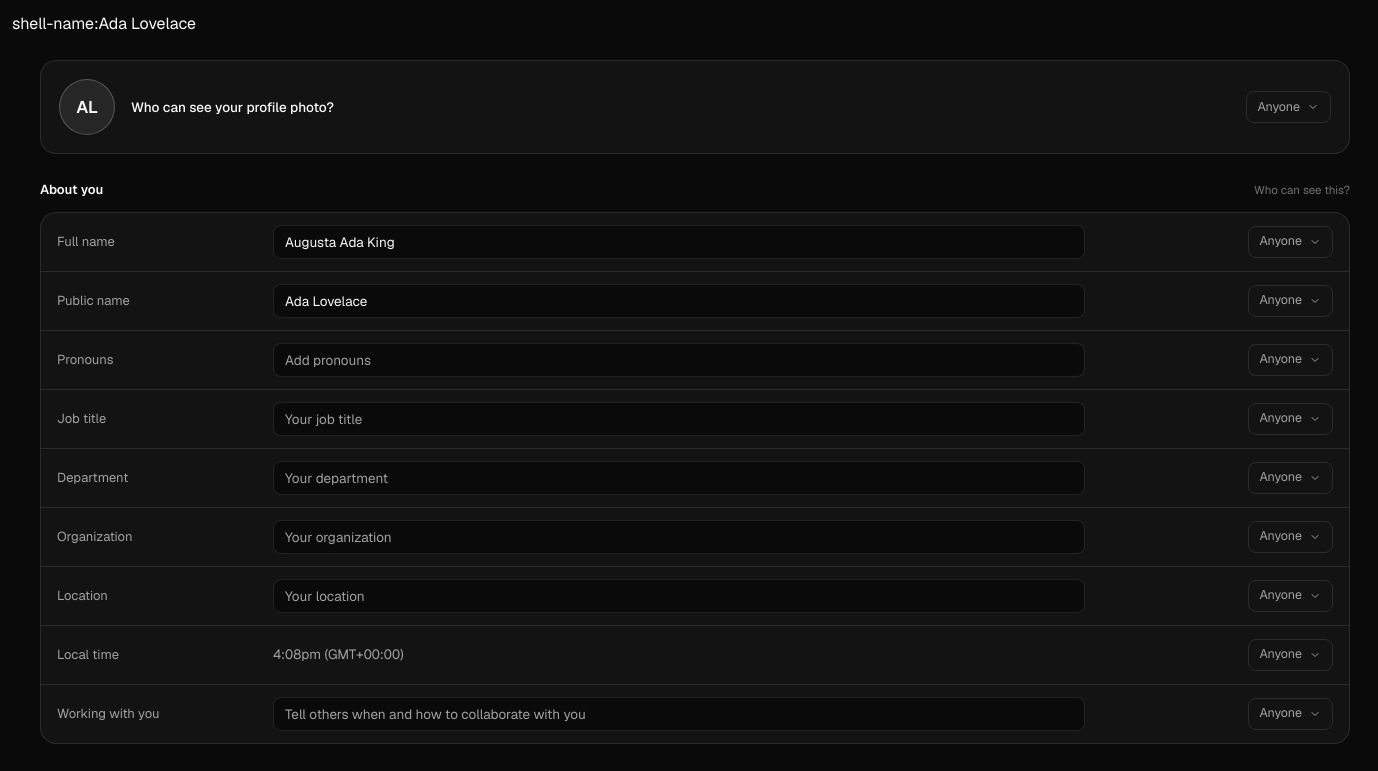
AccountProfile › does not restore an older name when a slower save resolves after a newer edit
The width and height of the screenshot is (1378, 771).
Replace the text in the field labelled "Public name" with "Ada King" at [679, 300], box [273,284,1085,318]
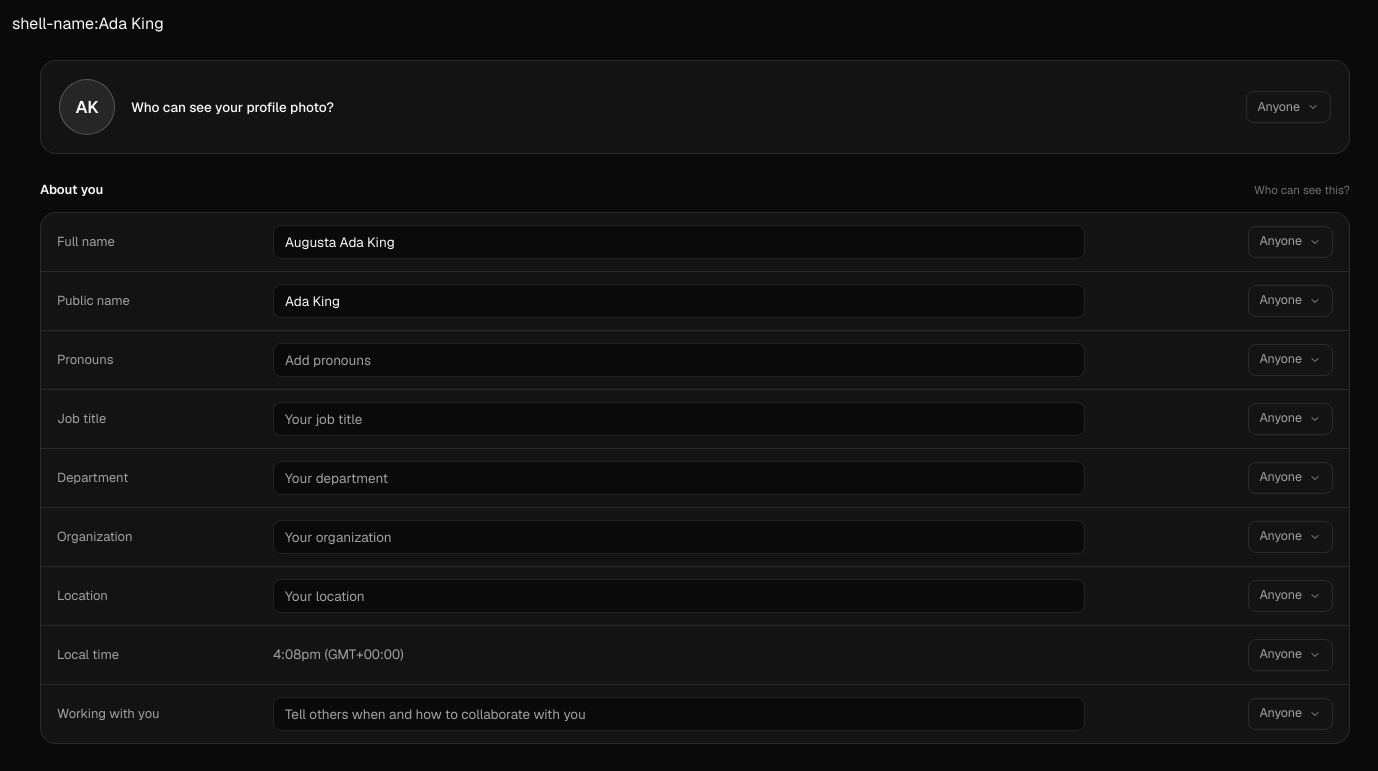
Replace the text in the field labelled "Public name" with "Grace Hopper" at [679, 300], box [273,284,1085,318]
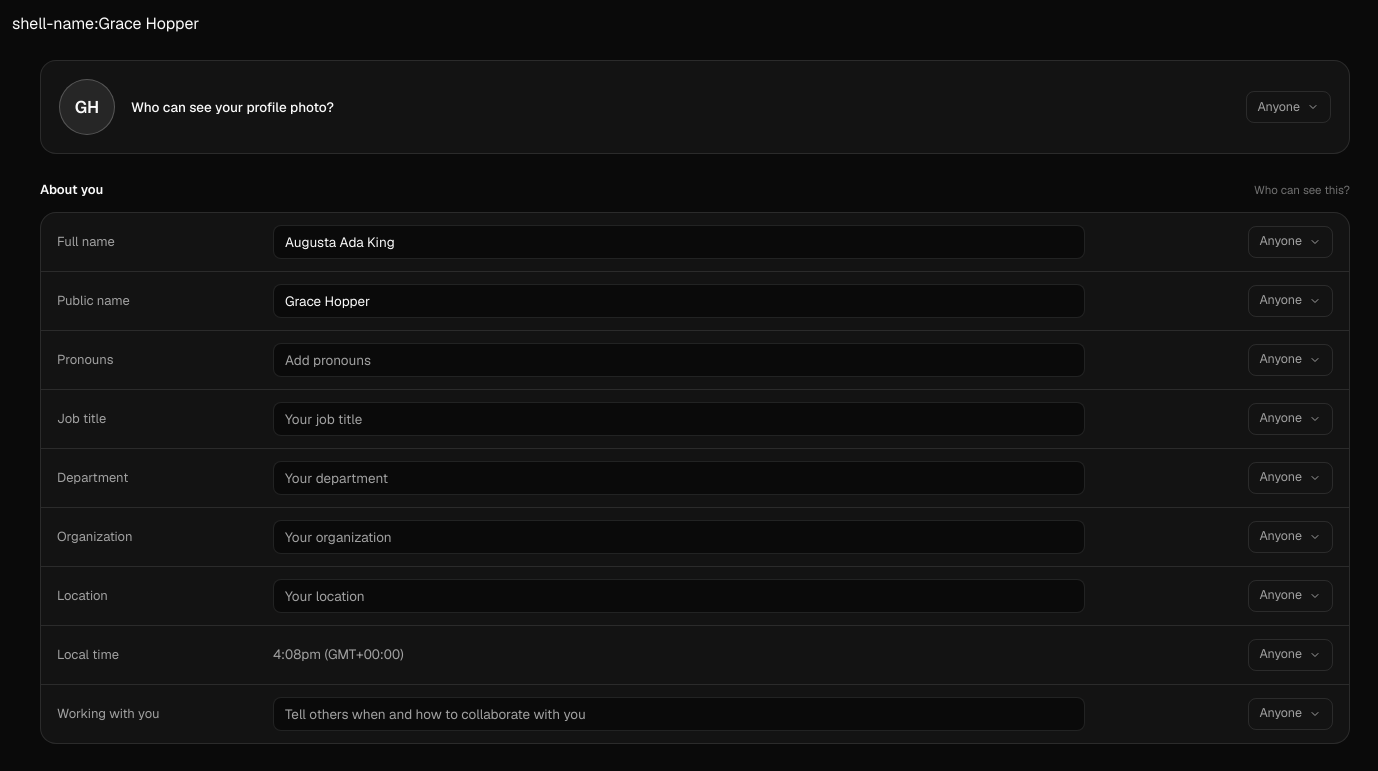
Expected: the text "shell-name:Grace Hopper" is shown, [12,13,199,34]
Expected: the text "shell-name:Ada King" is gone
